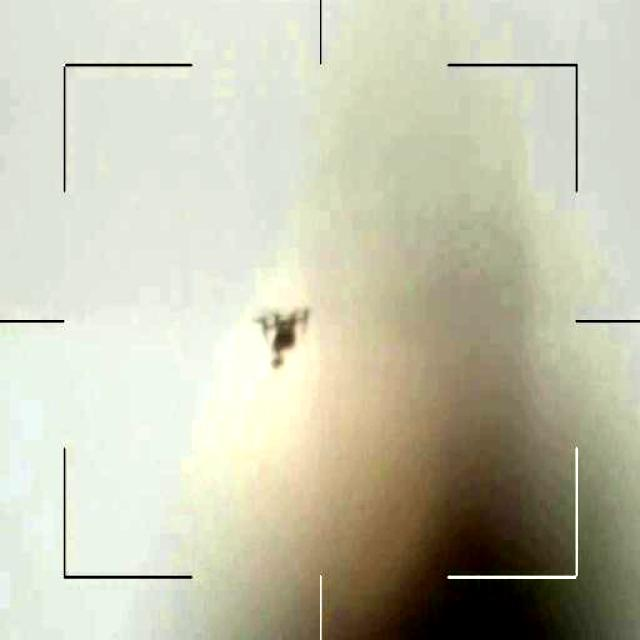bird: (245, 309, 320, 369)
